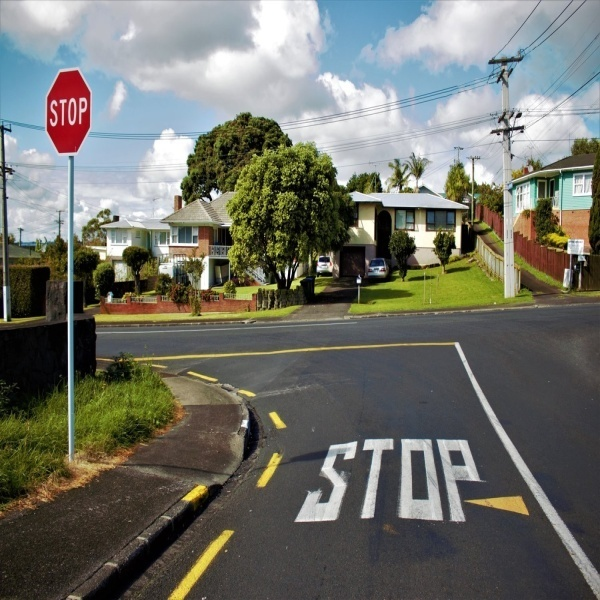stop: (48, 68, 90, 154)
